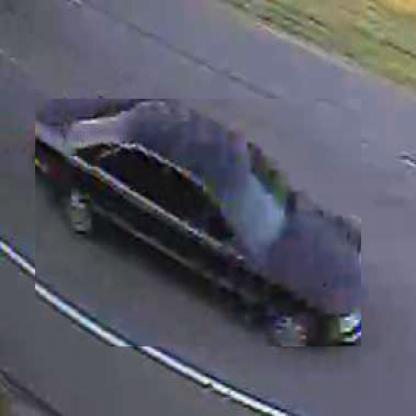car: (36, 100, 363, 349)
